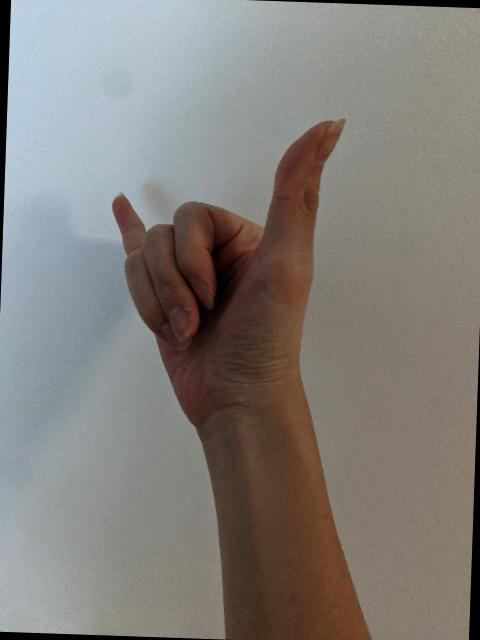Y: (100, 105, 350, 432)
